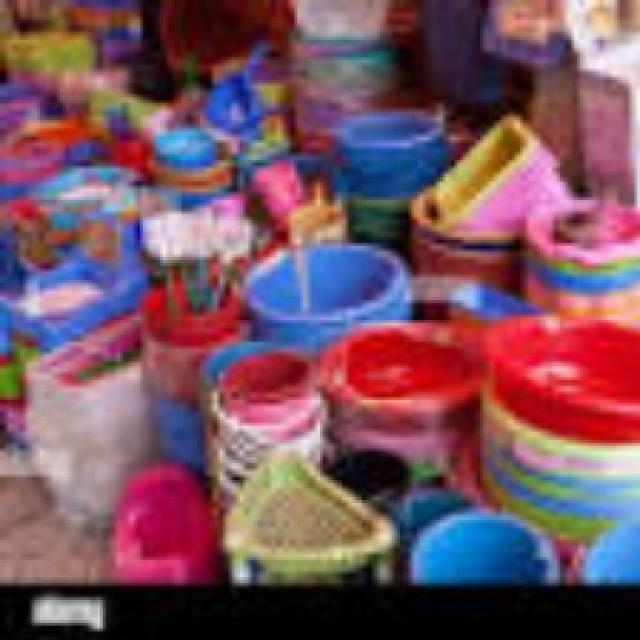plastic: (489, 319, 640, 447), (405, 508, 565, 599), (339, 110, 445, 194)
